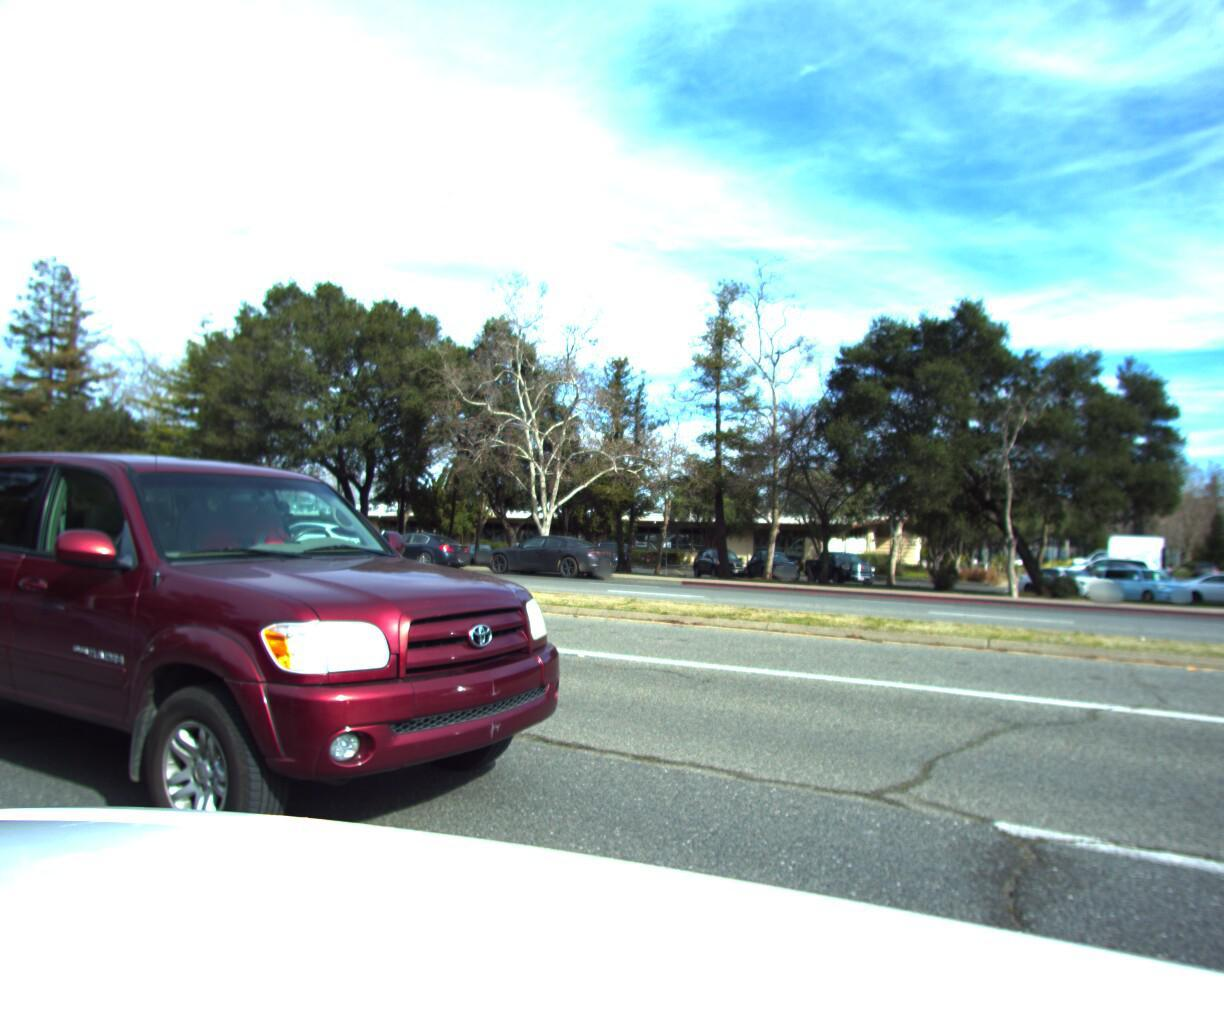car: (0, 412, 623, 923), (478, 526, 628, 577), (354, 523, 480, 569), (0, 497, 23, 539)
